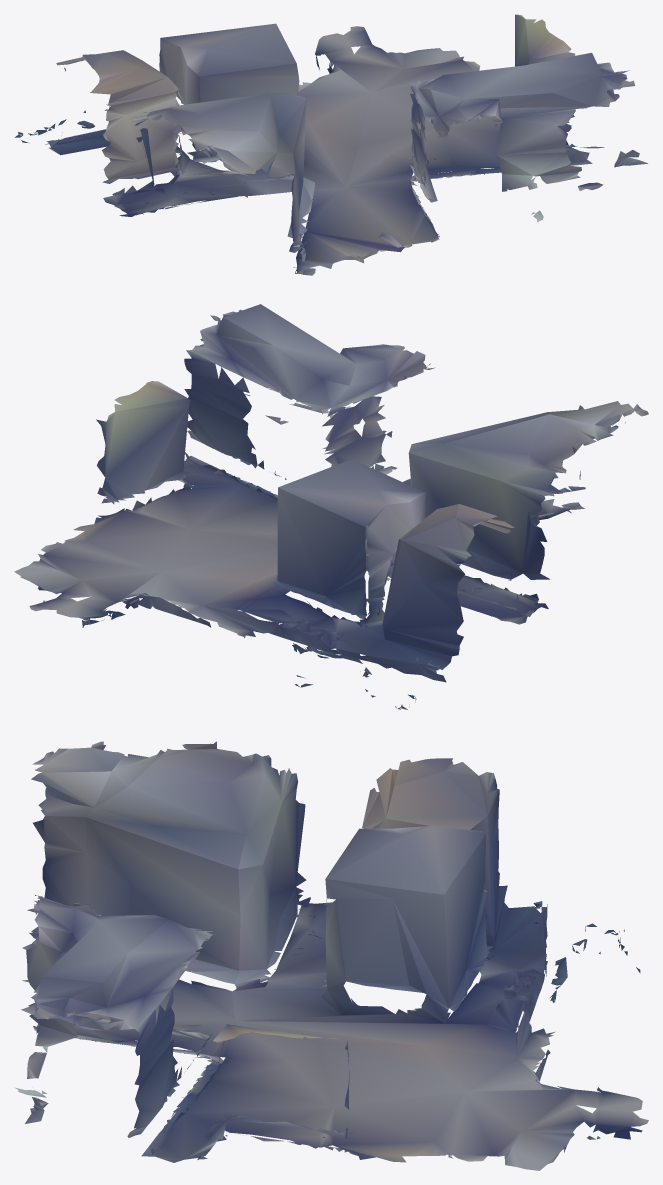
3 views of the same model, one above another, from view 1: azimuth 30°, elevation 25°; view 2: azimuth 150°, elevation 25°; view 3: azimuth 270°, elevation 25° (orthographic). The views are drawn at different scales.
Size of the model in its own units: 108 by 34.46 by 107.
